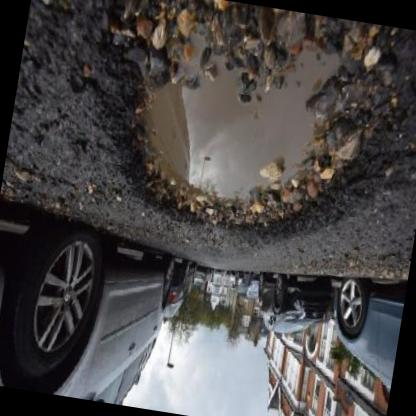pothole: (68, 0, 400, 260)
